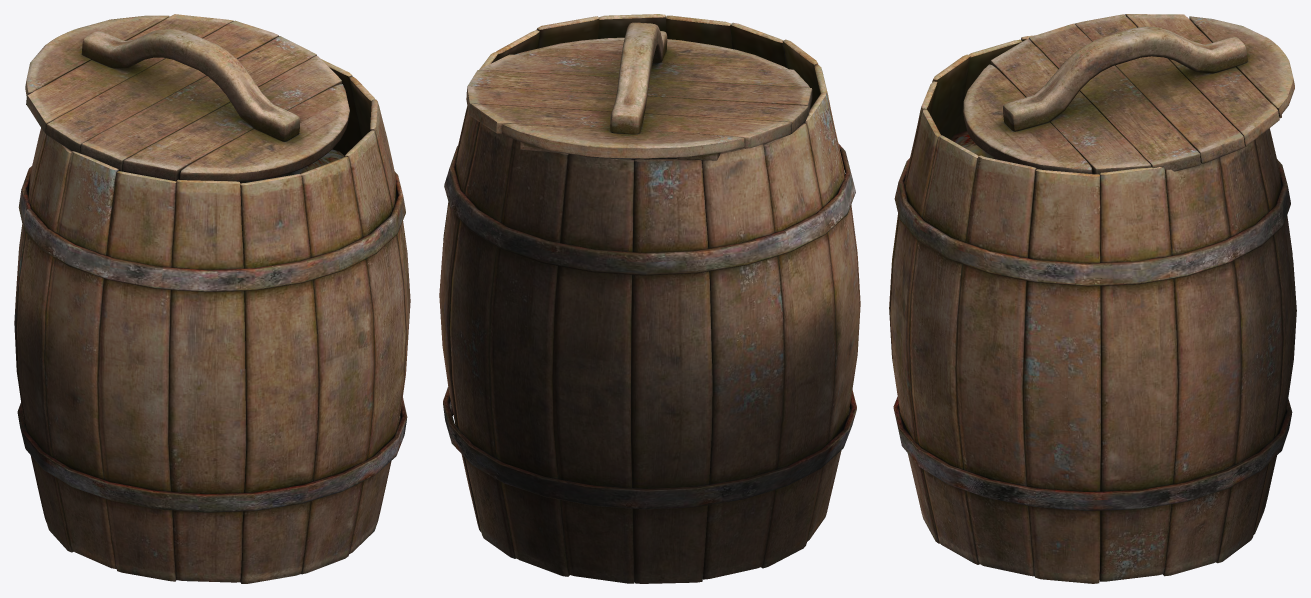
Rendered from Barrel.fbx.
3 views of the same model, side by side, from view 1: azimuth 30°, elevation 25°; view 2: azimuth 150°, elevation 25°; view 3: azimuth 270°, elevation 25° (orthographic). The views are drawn at different scales.
Visible parts, largest first — view 1: prim1; view 2: prim1; view 3: prim1.
Part boxes in pixels (x1,y1,x2,y2): prim1: (14, 14, 410, 583); prim1: (439, 14, 860, 583); prim1: (889, 14, 1296, 583).
Size of the model in its own units: 67.88 by 88.16 by 68.1.
